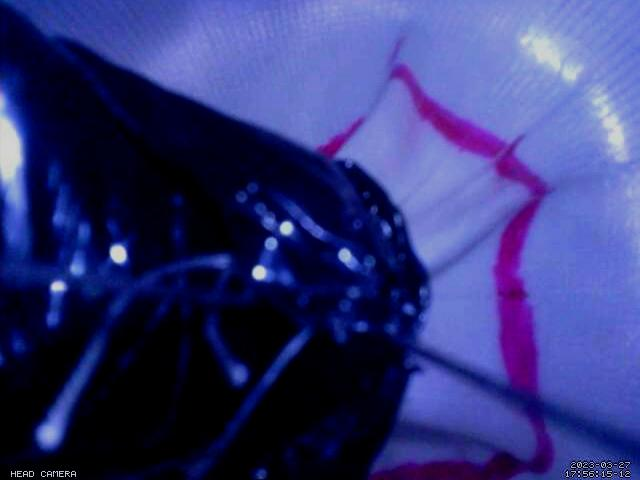red-circle: (314, 62, 557, 480)
